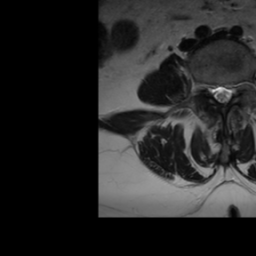CCS_normal: (217, 78, 225, 112)
LFS_normal: (232, 74, 241, 101)
LLS_normal: (225, 77, 232, 108)
RFS_normal: (200, 74, 209, 98)
RLS_normal: (209, 79, 217, 107)
